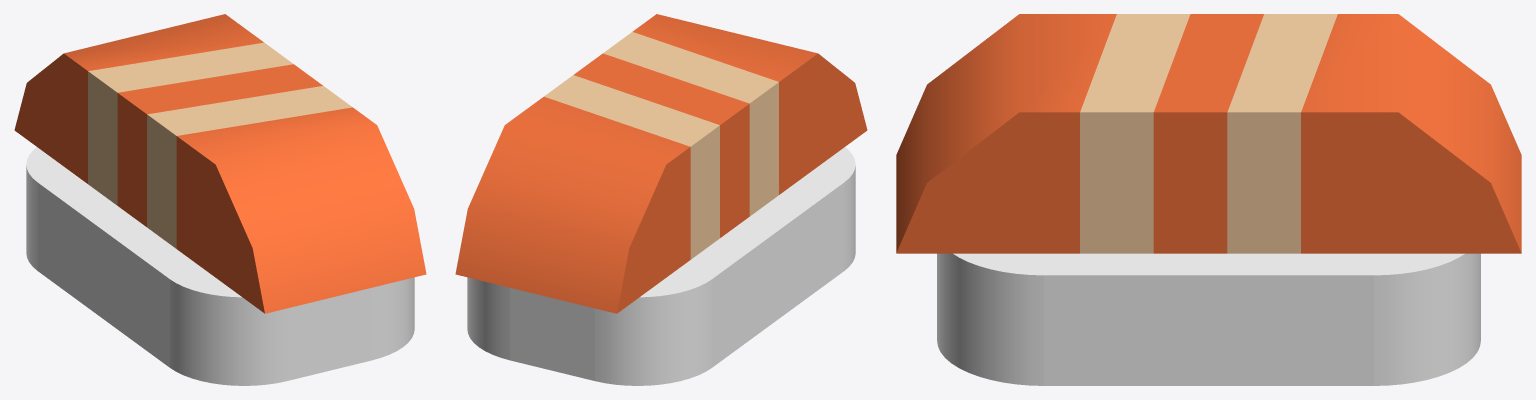
The model's file is Sushi Salmon.glb.
3 views of the same model, side by side, from view 1: azimuth 30°, elevation 25°; view 2: azimuth 150°, elevation 25°; view 3: azimuth 270°, elevation 25° (orthographic). The views are drawn at different scales.
Visible parts, largest first — view 1: salmon, sushiSalmon; view 2: salmon, sushiSalmon; view 3: salmon, sushiSalmon.
Boxes of the visible parts, x1=… form: salmon: x1=14, y1=14, x2=426, y2=313; sushiSalmon: x1=26, y1=147, x2=414, y2=385; salmon: x1=455, y1=14, x2=867, y2=313; sushiSalmon: x1=467, y1=147, x2=855, y2=385; salmon: x1=896, y1=14, x2=1521, y2=253; sushiSalmon: x1=937, y1=253, x2=1480, y2=385.
Bounding box in the file's own units: 0.1079 × 0.0892 × 0.2008.
